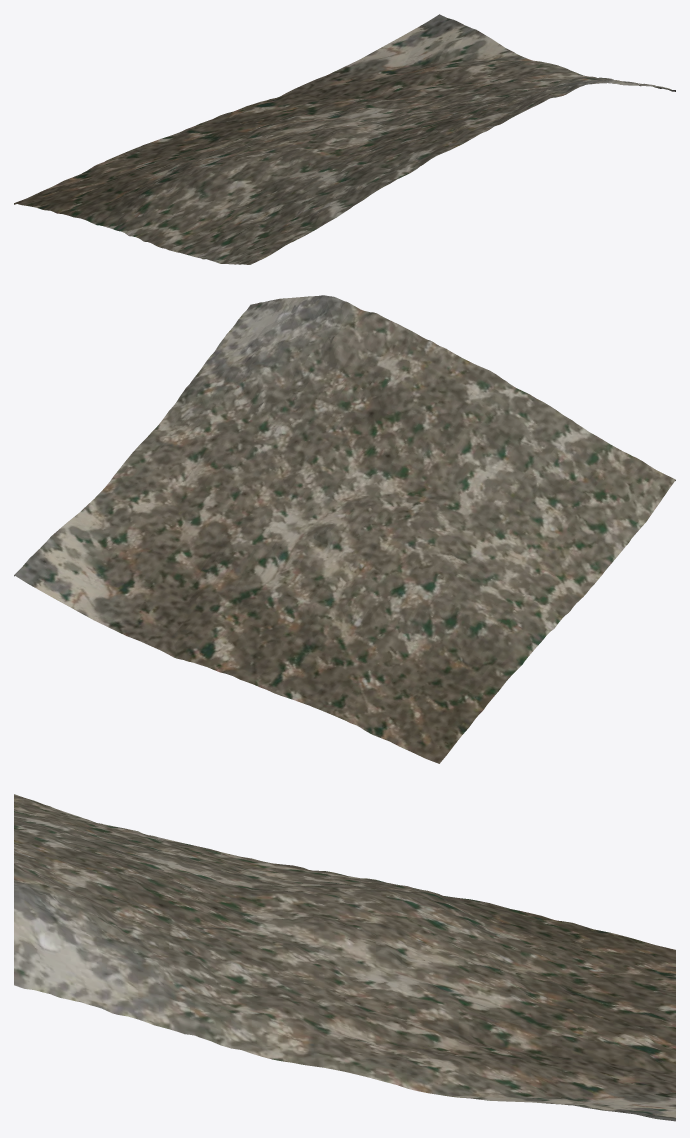
The picture shows the model from 3 angles, top to bottom: view 1: azimuth 30°, elevation 25°; view 2: azimuth 150°, elevation 25°; view 3: azimuth 270°, elevation 25°; orthographic projection. The views are drawn at different scales.
Size of the model in its own units: 250 by 119 by 241.
Materials: 1 (1 with a texture image).
